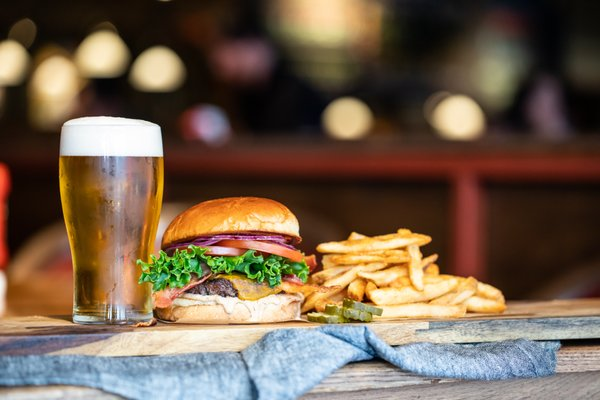soup: (139, 195, 313, 324)
